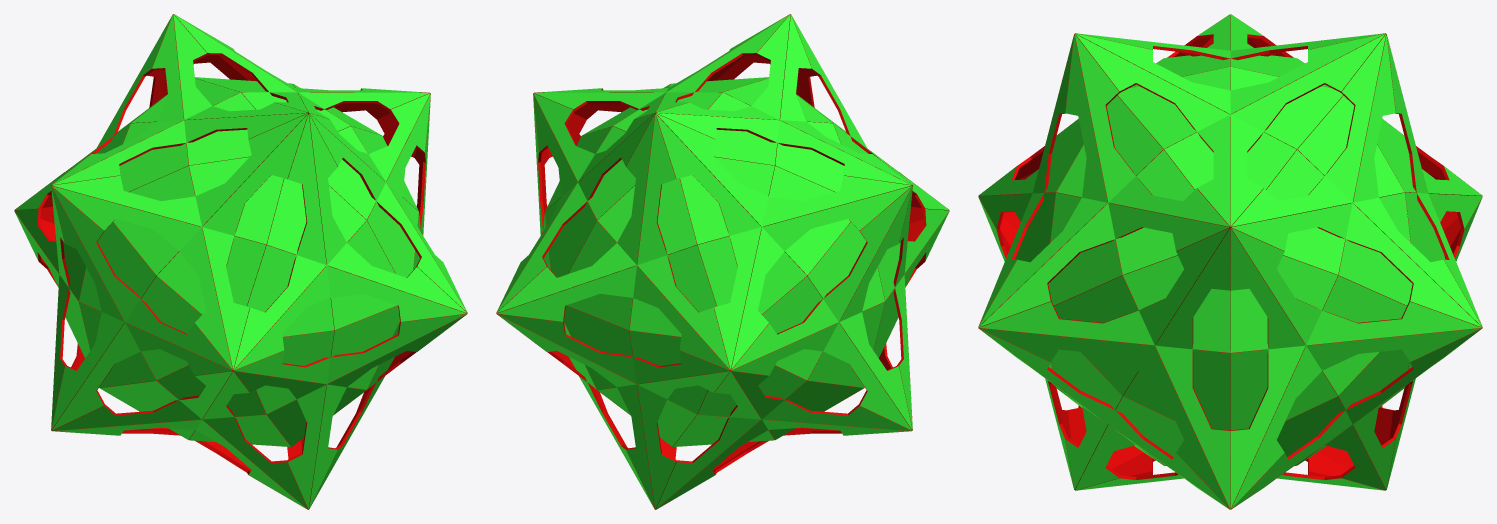
The model's file is SmallDodecacronicHexecontahedronS.glb.
The picture shows the model from 3 angles, left to right: view 1: azimuth 30°, elevation 25°; view 2: azimuth 150°, elevation 25°; view 3: azimuth 270°, elevation 25°; orthographic projection. The views are drawn at different scales.
Parts seen in each view (by area): view 1: root; view 2: root; view 3: root.
Boxes of the visible parts, x1,y1,x2,y2 form: root: [14, 14, 467, 509]; root: [496, 14, 949, 509]; root: [978, 14, 1482, 509].
Bounding box in the file's own units: 7.87 × 7.87 × 7.87.
